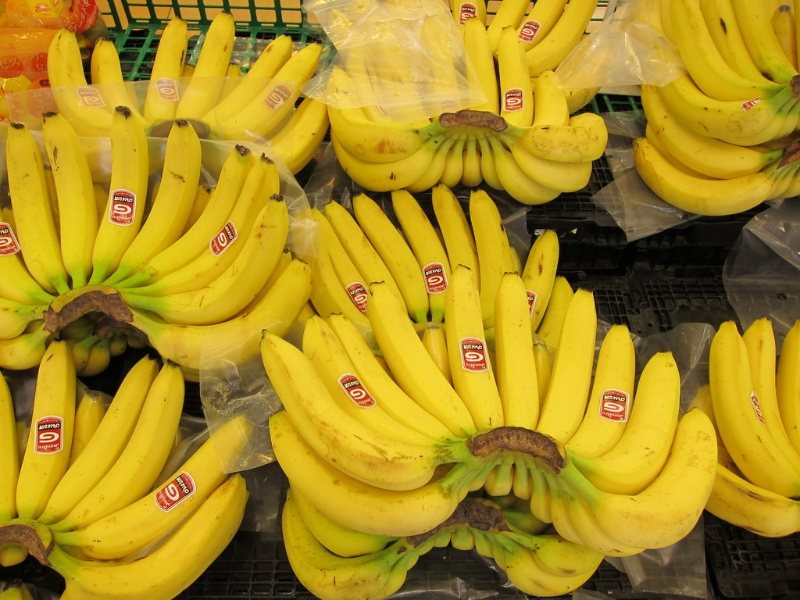banana: (248, 331, 479, 538), (465, 18, 605, 209), (435, 261, 541, 434), (707, 313, 800, 506), (15, 339, 90, 522)
